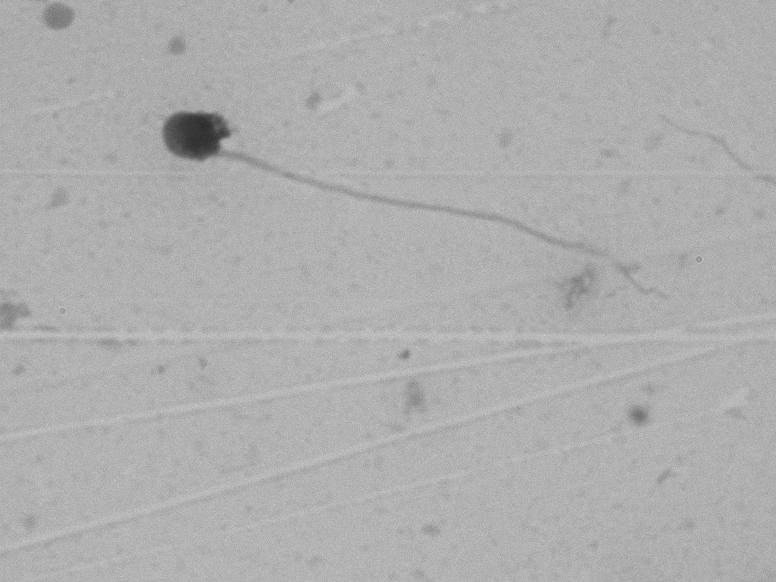Abnormal: (125, 92, 652, 272)
